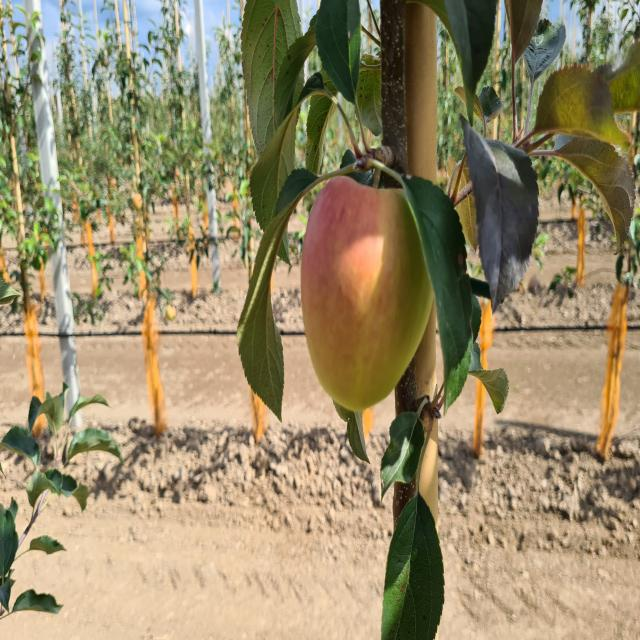Apple: (301, 176, 432, 411)
